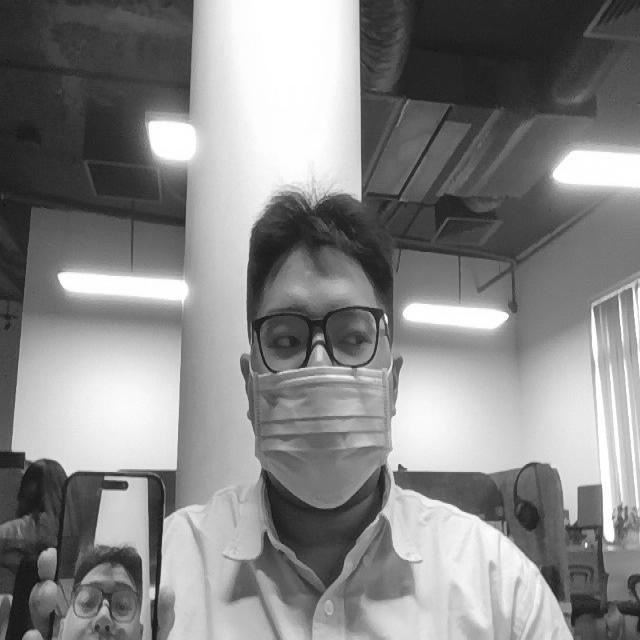fake: (53, 450, 175, 640), (251, 365, 394, 508), (62, 541, 146, 640)
real: (236, 180, 403, 519), (254, 297, 395, 370)
